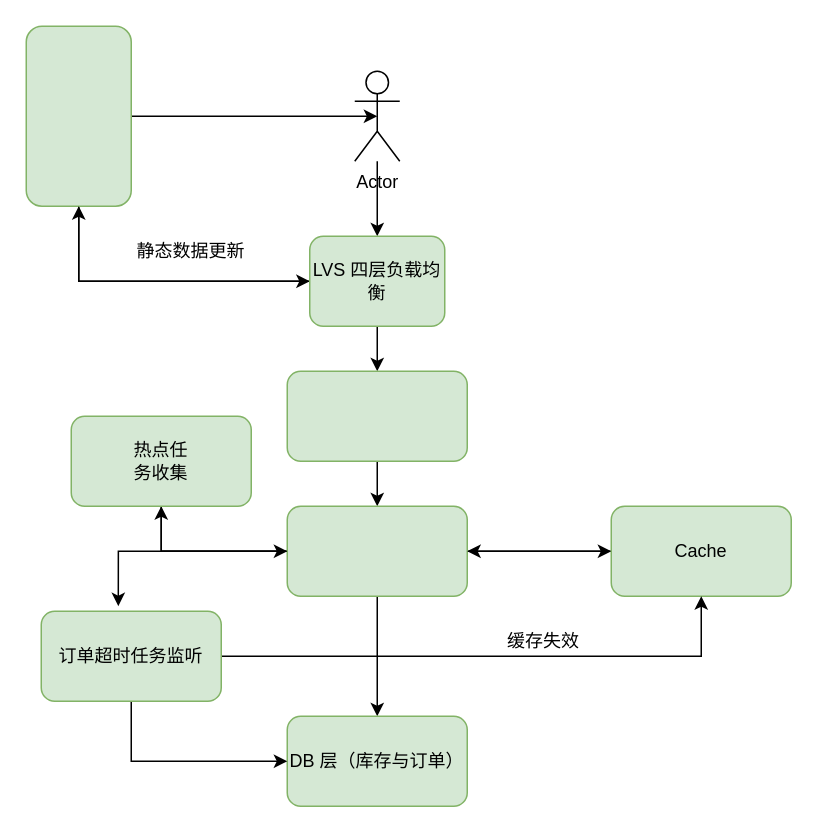
Some shapes in this 818 by 833 pixel diagram are drawn without their labels. The shapes that lost their labels are listed below. From the top down, each one's centre as x and y in pixels, then its label:
At [78,115]: "CDN 静态数据".
At [376,415]: "Nginx 七层负载均衡".
At [376,550]: "Backend".
